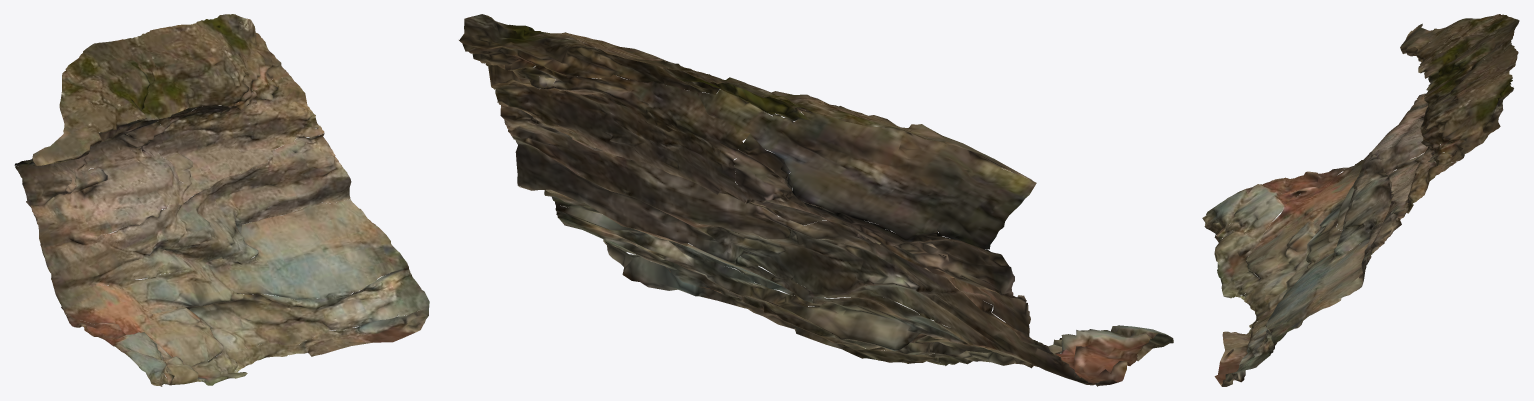
File: env_rock_face.glb
3 renders of one model, left to right at view 1: azimuth 30°, elevation 25°; view 2: azimuth 150°, elevation 25°; view 3: azimuth 270°, elevation 25°, orthographic. The views are drawn at different scales.
Parts seen in each view (by area): view 1: ENV_rock_face_01; view 2: ENV_rock_face_01; view 3: ENV_rock_face_01.
Part boxes in pixels (bbox=[...]): ENV_rock_face_01: bbox=[14, 14, 429, 386]; ENV_rock_face_01: bbox=[459, 14, 1173, 386]; ENV_rock_face_01: bbox=[1202, 14, 1519, 386].
Bounding box in the file's own units: 5 × 3.6 × 3.86.
Materials: 1 (1 with a texture image).
